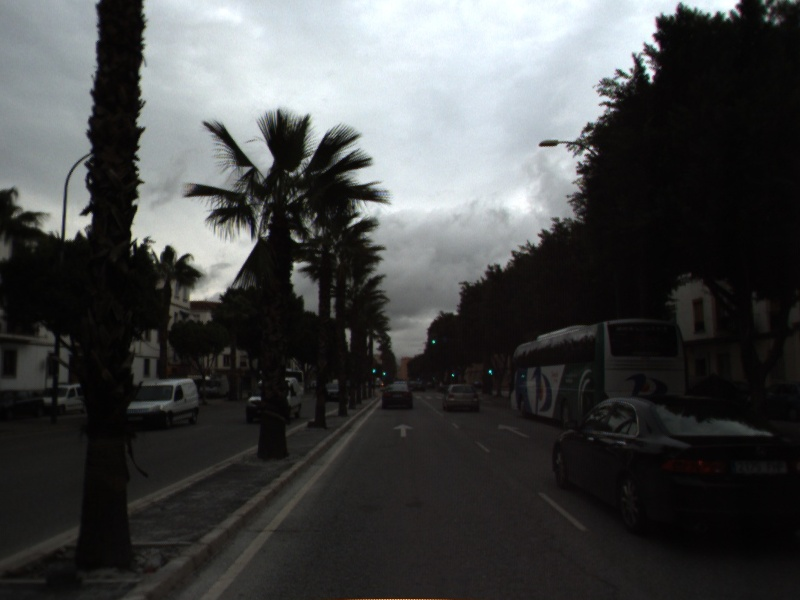STRAIGHT: (496, 422, 532, 440), (391, 422, 416, 439)
